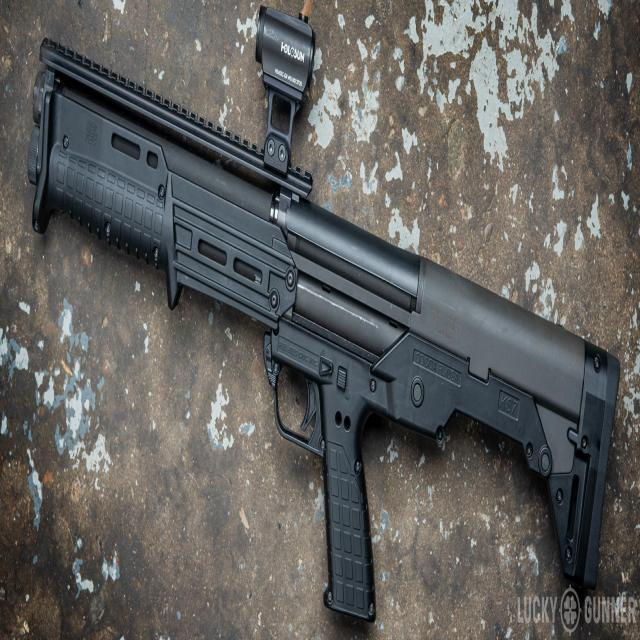shotgun: (33, 19, 612, 596)
